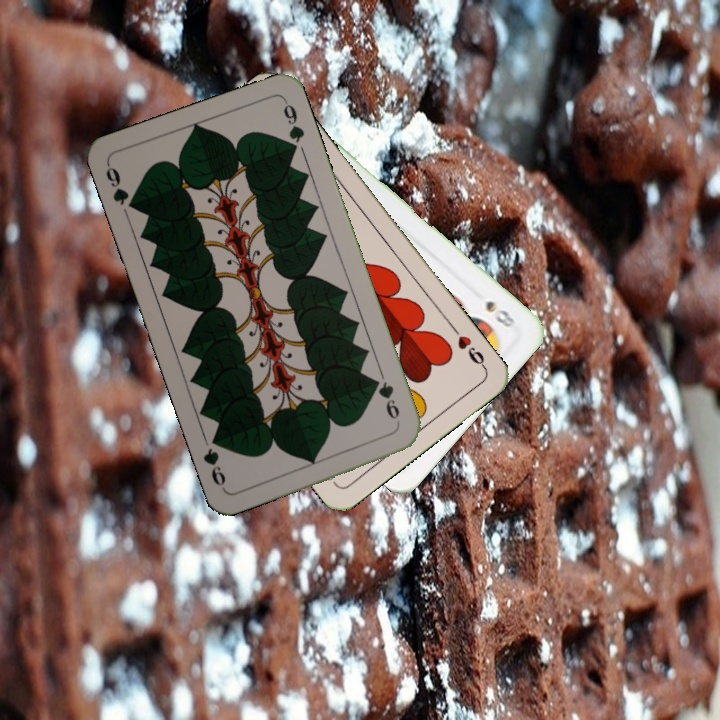G9: (101, 160, 140, 213), (369, 374, 402, 422)
H9: (447, 321, 489, 372)
S8: (481, 296, 521, 330)
